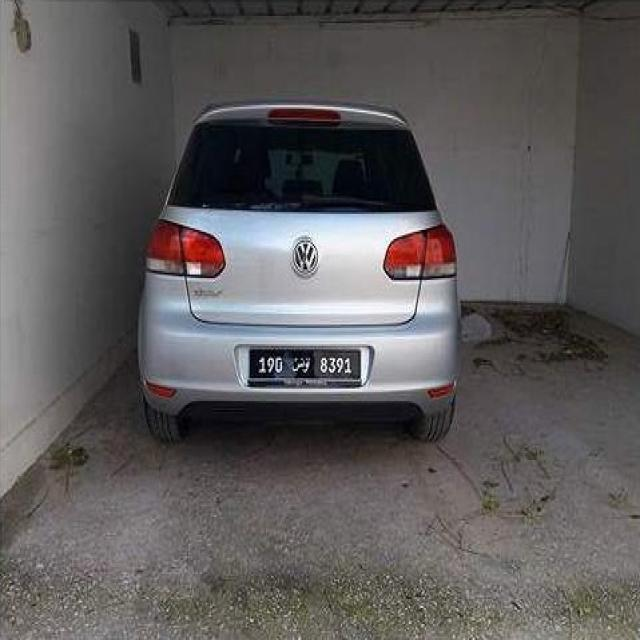licence plate: (249, 350, 361, 378)
